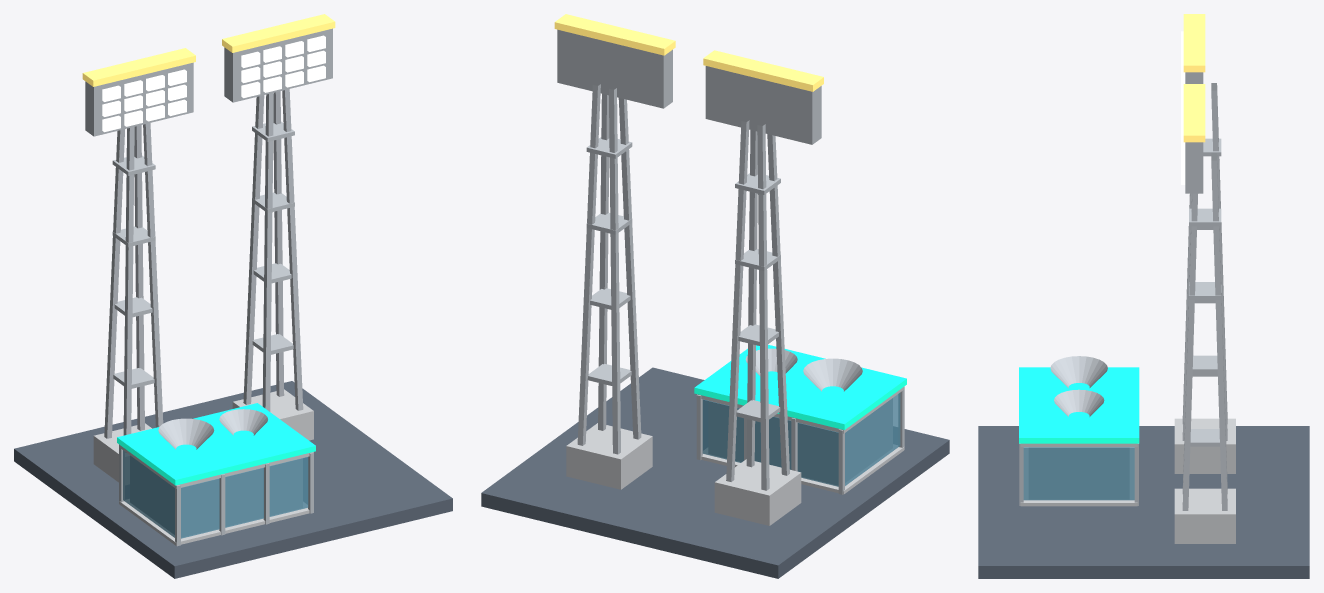
The model's file is floodlight_pylon_array.master.glb.
The picture shows the model from 3 angles, left to right: view 1: azimuth 30°, elevation 25°; view 2: azimuth 150°, elevation 25°; view 3: azimuth 270°, elevation 25°; orthographic projection. The views are drawn at different scales.
Visible parts, largest first — view 1: floodlight_pylon_array_master; view 2: floodlight_pylon_array_master; view 3: floodlight_pylon_array_master.
Boxes of the visible parts, x1,y1,x2,y2 form: floodlight_pylon_array_master: [14, 14, 452, 578]; floodlight_pylon_array_master: [481, 14, 949, 578]; floodlight_pylon_array_master: [978, 14, 1309, 578].
Bounding box in the file's own units: 1.84 × 2.66 × 1.84.
